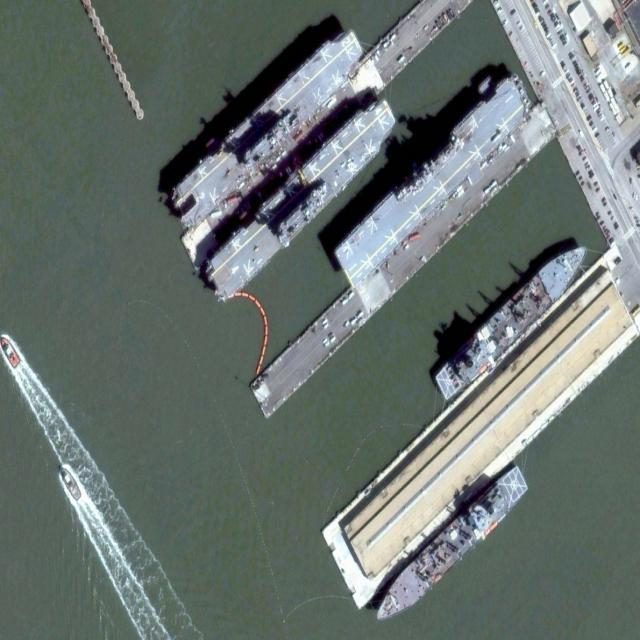Commander: (431, 231, 596, 405), (369, 459, 531, 635)
Hovercraft: (56, 460, 83, 504), (1, 335, 21, 370)
Landing: (325, 55, 541, 301), (201, 89, 402, 308), (166, 19, 370, 234)
